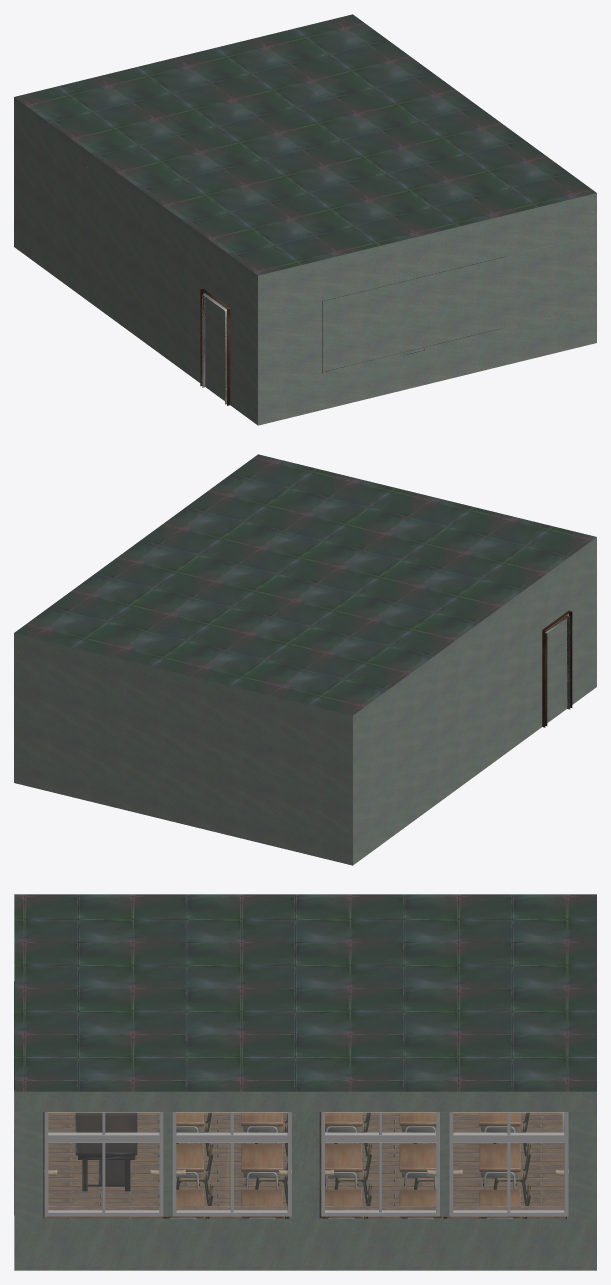
The model's file is classroom.glb.
3 renders of one model, top to bottom at view 1: azimuth 30°, elevation 25°; view 2: azimuth 150°, elevation 25°; view 3: azimuth 270°, elevation 25°, orthographic. The views are drawn at different scales.
Parts seen in each view (by area): view 1: ceiling -1 -1, ceiling 0 0, rest 0 1, rest -1 1, rest -2 -1, rest -2 0, rest -2 1; view 2: ceiling 0 0, ceiling -1 -1, rest -1 -2, rest 0 -2, rest -2 -1, rest -2 0, rest -2 1; view 3: ceiling 0 0, ceiling -1 -1, rest 1 0, rest 1 -1, rest 1 -2, rest 1 1, floor -1 -1, floor 0 0, rest 0 -1, rest 0 0, rest 0 -2, rest 0 1 (+4 smaller).
Boxes of the visible parts, x1,y1,x2,y2 form: ceiling -1 -1: (14, 14, 352, 275); ceiling 0 0: (258, 14, 596, 275); rest 0 1: (259, 193, 596, 424); rest -1 1: (258, 194, 595, 425); rest -2 -1: (14, 97, 257, 381); rest -2 0: (14, 115, 257, 425); rest -2 1: (203, 293, 230, 405); ceiling 0 0: (14, 454, 595, 632); ceiling -1 -1: (15, 537, 596, 715); rest -1 -2: (14, 650, 352, 865); rest 0 -2: (14, 628, 351, 821); rest -2 -1: (353, 539, 596, 864); rest -2 0: (353, 537, 596, 864); rest -2 1: (545, 611, 572, 709); ceiling 0 0: (14, 894, 595, 1091); ceiling -1 -1: (15, 894, 596, 1091); rest 1 0: (14, 1091, 595, 1270); rest 1 -1: (15, 1091, 596, 1270); rest 1 -2: (445, 1112, 596, 1218); rest 1 1: (14, 1112, 167, 1218); floor -1 -1: (137, 1112, 565, 1218); floor 0 0: (44, 1112, 401, 1218); rest 0 -1: (320, 1143, 479, 1218); rest 0 0: (134, 1121, 287, 1218); rest 0 -2: (479, 1143, 530, 1218); rest 0 1: (14, 1088, 136, 1191).
Bounding box in the file's own units: 8.11 × 3.42 × 10.04.
21 materials, 17 textured.
